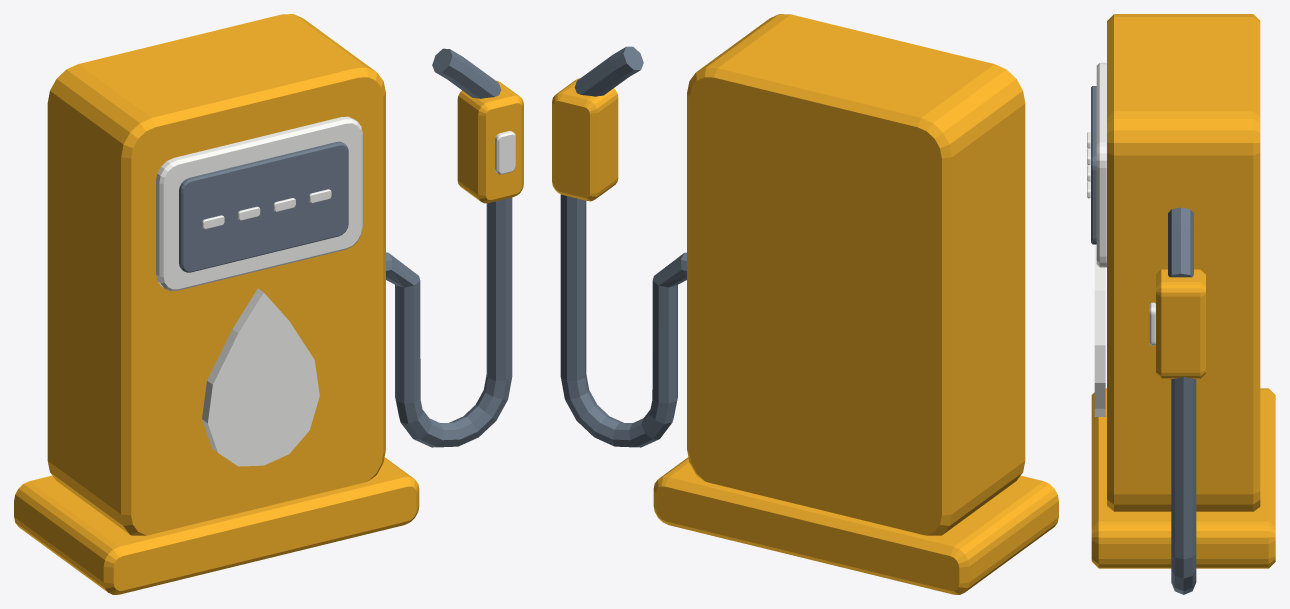
The model's file is gasoline_regular.glb.
The picture shows the model from 3 angles, left to right: view 1: azimuth 30°, elevation 25°; view 2: azimuth 150°, elevation 25°; view 3: azimuth 270°, elevation 25°; orthographic projection. The views are drawn at different scales.
Parts seen in each view (by area): view 1: gasoline_regular; view 2: gasoline_regular; view 3: gasoline_regular.
Boxes of the visible parts, box(x1,y1,x2,y2) form: gasoline_regular: box(14, 14, 523, 594); gasoline_regular: box(552, 14, 1058, 594); gasoline_regular: box(1087, 14, 1275, 594).
Bounding box in the file's own units: 1.78 × 1.73 × 0.676.
